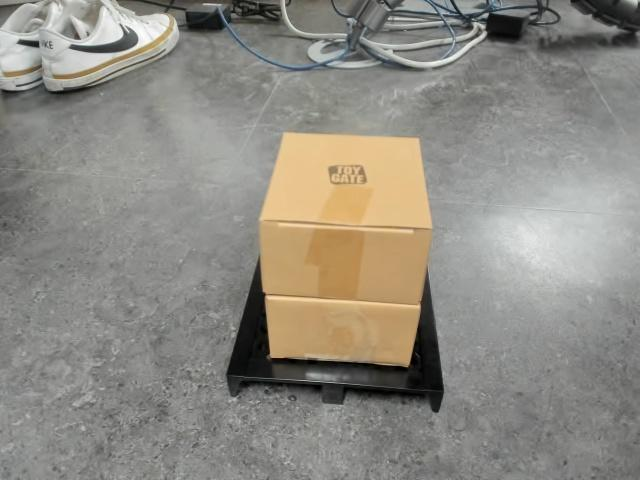box: (226, 130, 447, 416)
